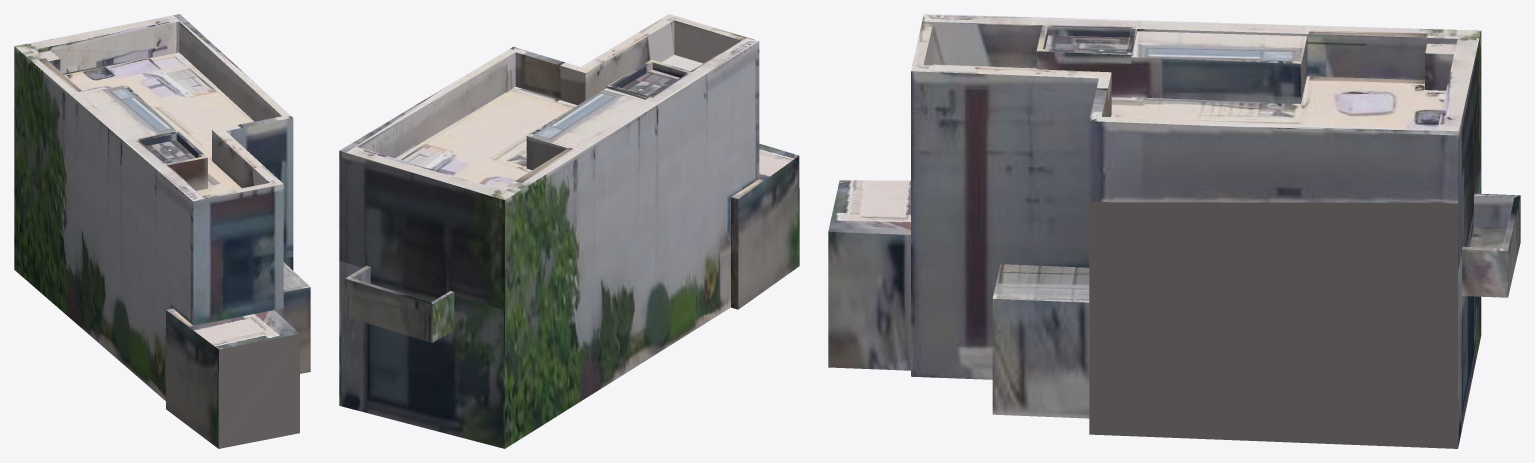
3 views of the same model, side by side, from view 1: azimuth 30°, elevation 25°; view 2: azimuth 150°, elevation 25°; view 3: azimuth 270°, elevation 25° (orthographic). The views are drawn at different scales.
Visible parts, largest first — view 1: B284834034501062A0; view 2: B284834034501062A0; view 3: B284834034501062A0.
Part boxes in pixels (x1=…): B284834034501062A0: x1=14, y1=14, x2=310, y2=448; B284834034501062A0: x1=339, y1=14, x2=799, y2=448; B284834034501062A0: x1=828, y1=14, x2=1520, y2=448.
Bounding box in the file's own units: 7.87 × 9.18 × 18.39.
1 material, 1 textured.
